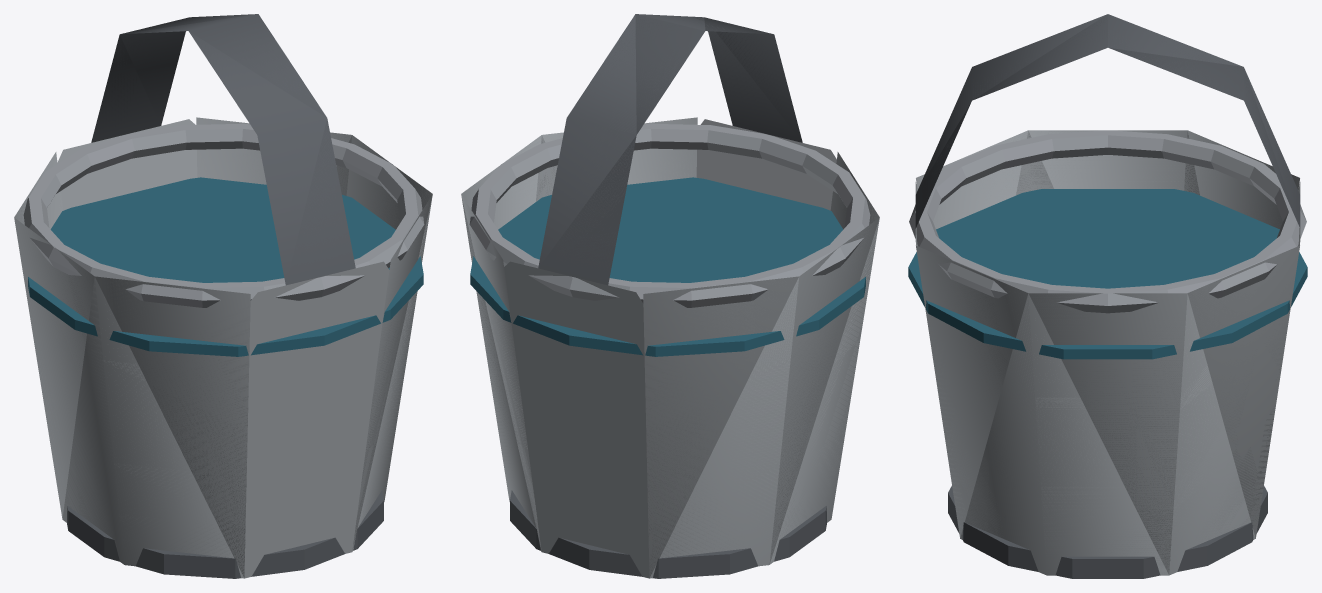
File: bucket.glb
3 renders of one model, left to right at view 1: azimuth 30°, elevation 25°; view 2: azimuth 150°, elevation 25°; view 3: azimuth 270°, elevation 25°, orthographic.
Parts seen in each view (by area): view 1: bucket; view 2: bucket; view 3: bucket.
Boxes of the visible parts, x1,y1,x2,y2 form: bucket: (14, 14, 432, 578); bucket: (461, 14, 879, 578); bucket: (908, 14, 1307, 578).
Bounding box in the file's own units: 0.1441 × 0.1921 × 0.1441.
